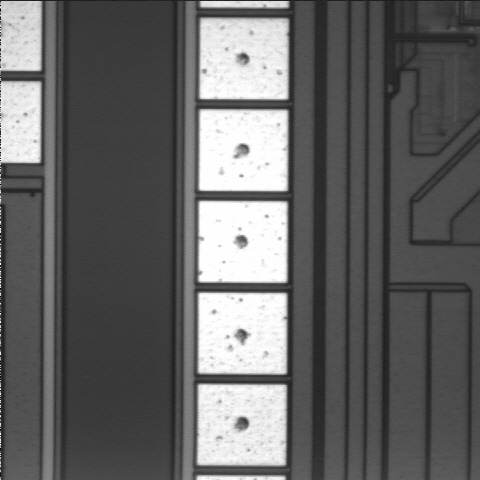pad: (199, 109, 288, 191), (198, 201, 287, 283), (198, 293, 287, 374), (197, 384, 286, 465), (200, 18, 288, 99)
